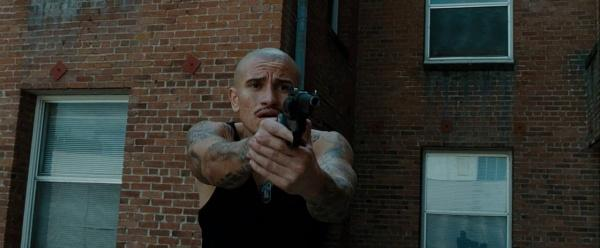Gun: (278, 88, 320, 149)
